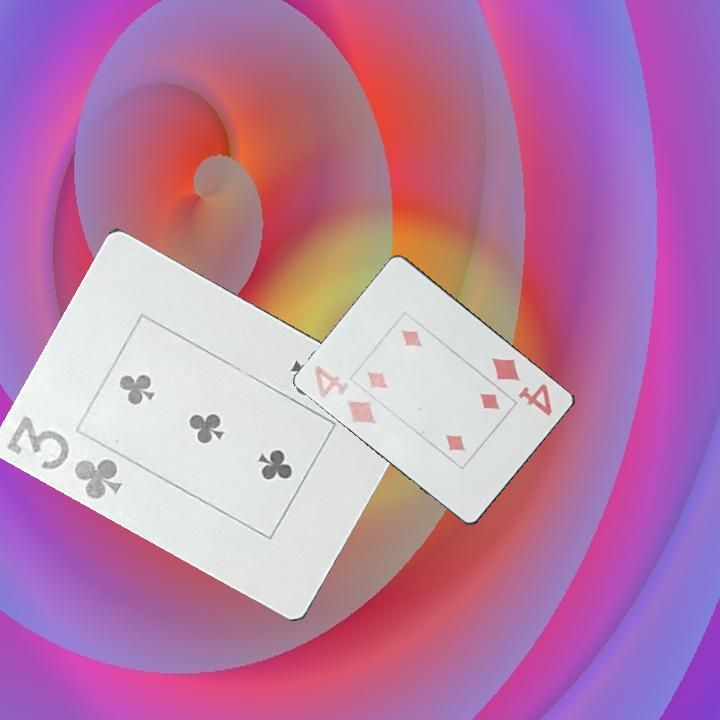3c: (3, 412, 125, 503)
4d: (488, 353, 556, 419), (311, 362, 379, 428)
